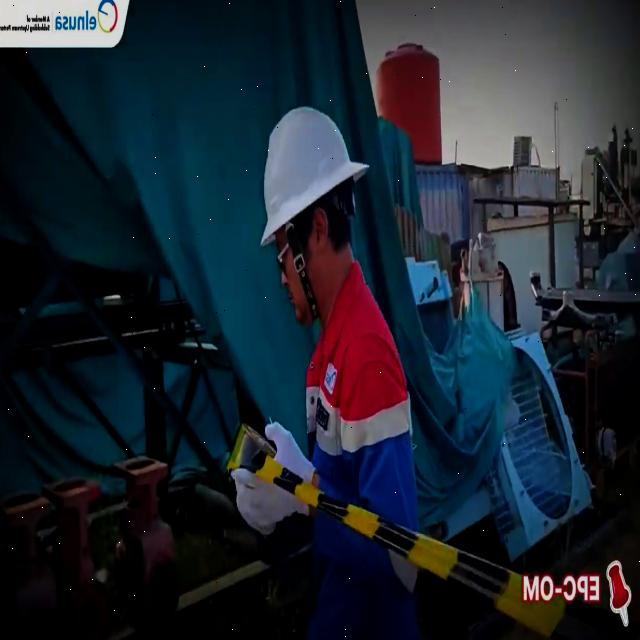Gloves: (246, 423, 314, 536)
Hardhat: (257, 107, 371, 249)
Overall Suit: (308, 271, 417, 640)
Strapped: (291, 227, 320, 321)
